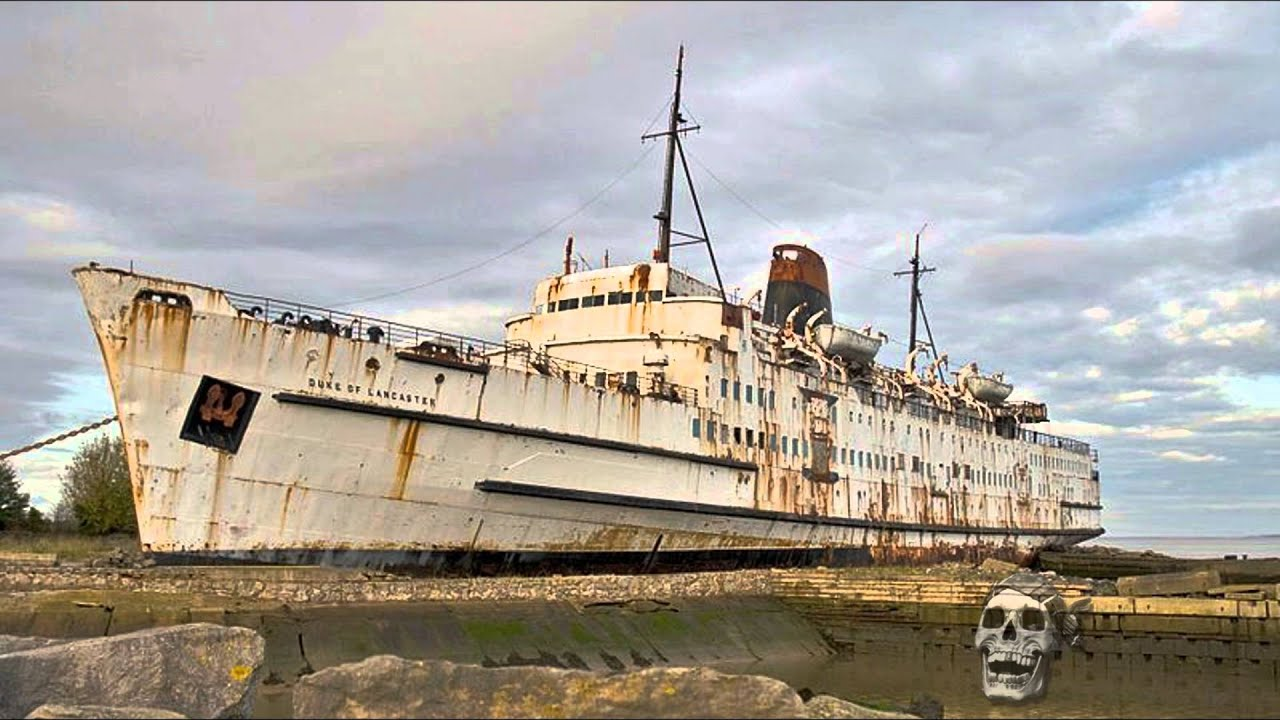rust: (710, 418, 831, 518), (882, 484, 1032, 564), (114, 288, 197, 362), (390, 420, 430, 495)
